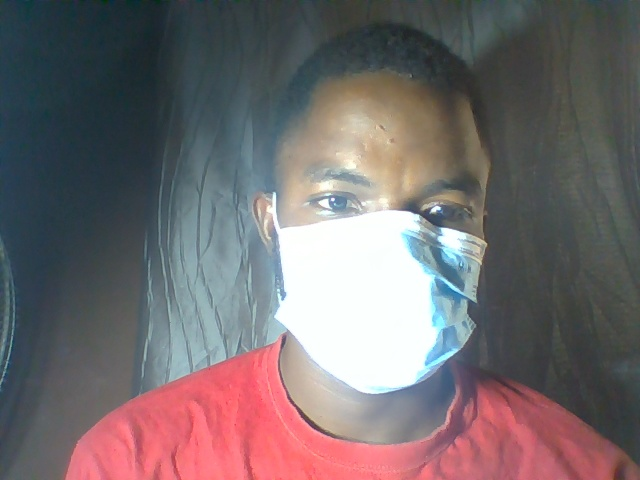MaskOn: (250, 15, 500, 400)
